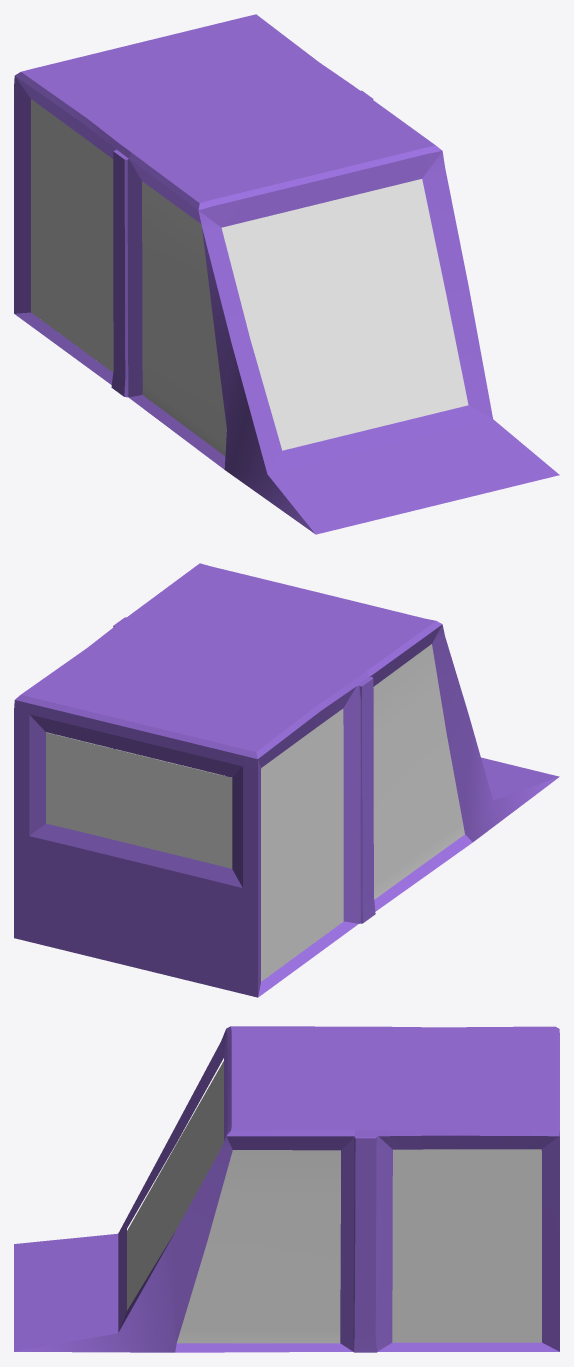
Rendered from BOXY-TOP-R0rV-vPh.glb.
3 renders of one model, top to bottom at view 1: azimuth 30°, elevation 25°; view 2: azimuth 150°, elevation 25°; view 3: azimuth 270°, elevation 25°, orthographic. The views are drawn at different scales.
Bounding box in the file's own units: 1.54 × 1.43 × 3.21.
1 material, 1 textured.
